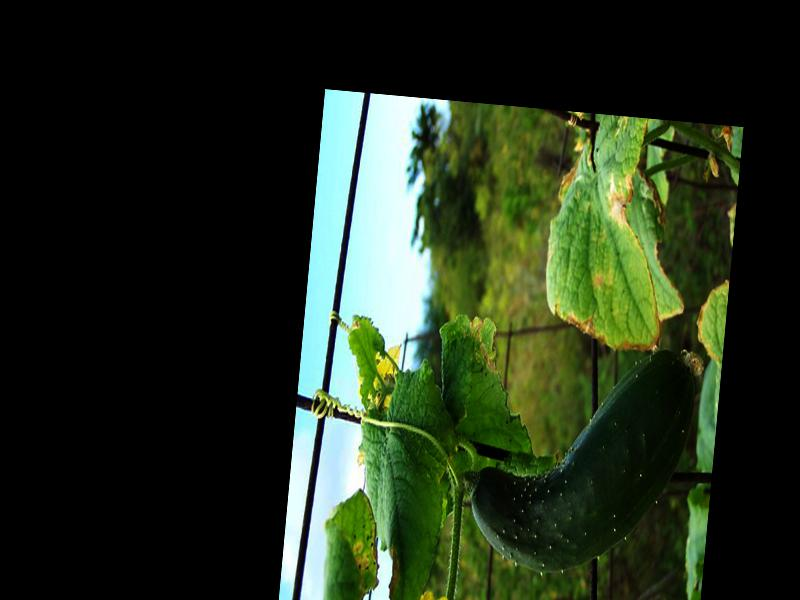Cucumber: (463, 330, 699, 581)
